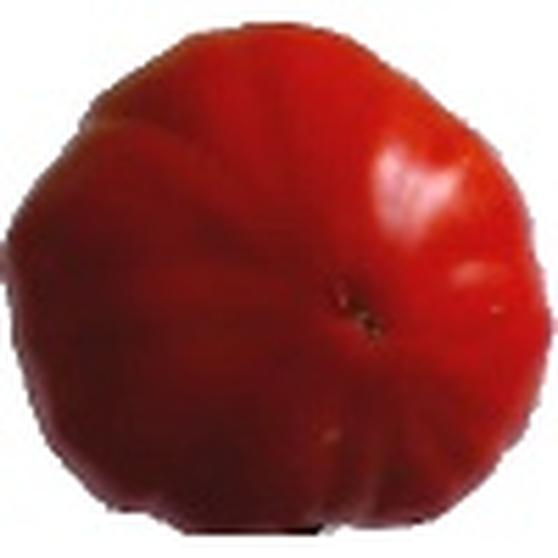tomato: (2, 26, 550, 541)
